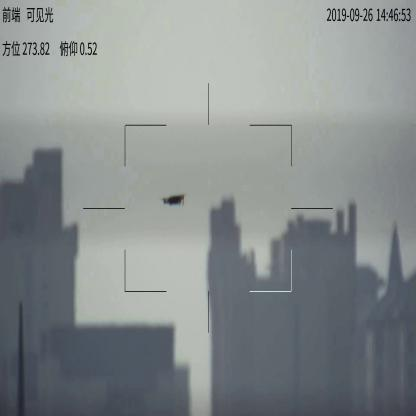uav: (156, 190, 187, 209)
